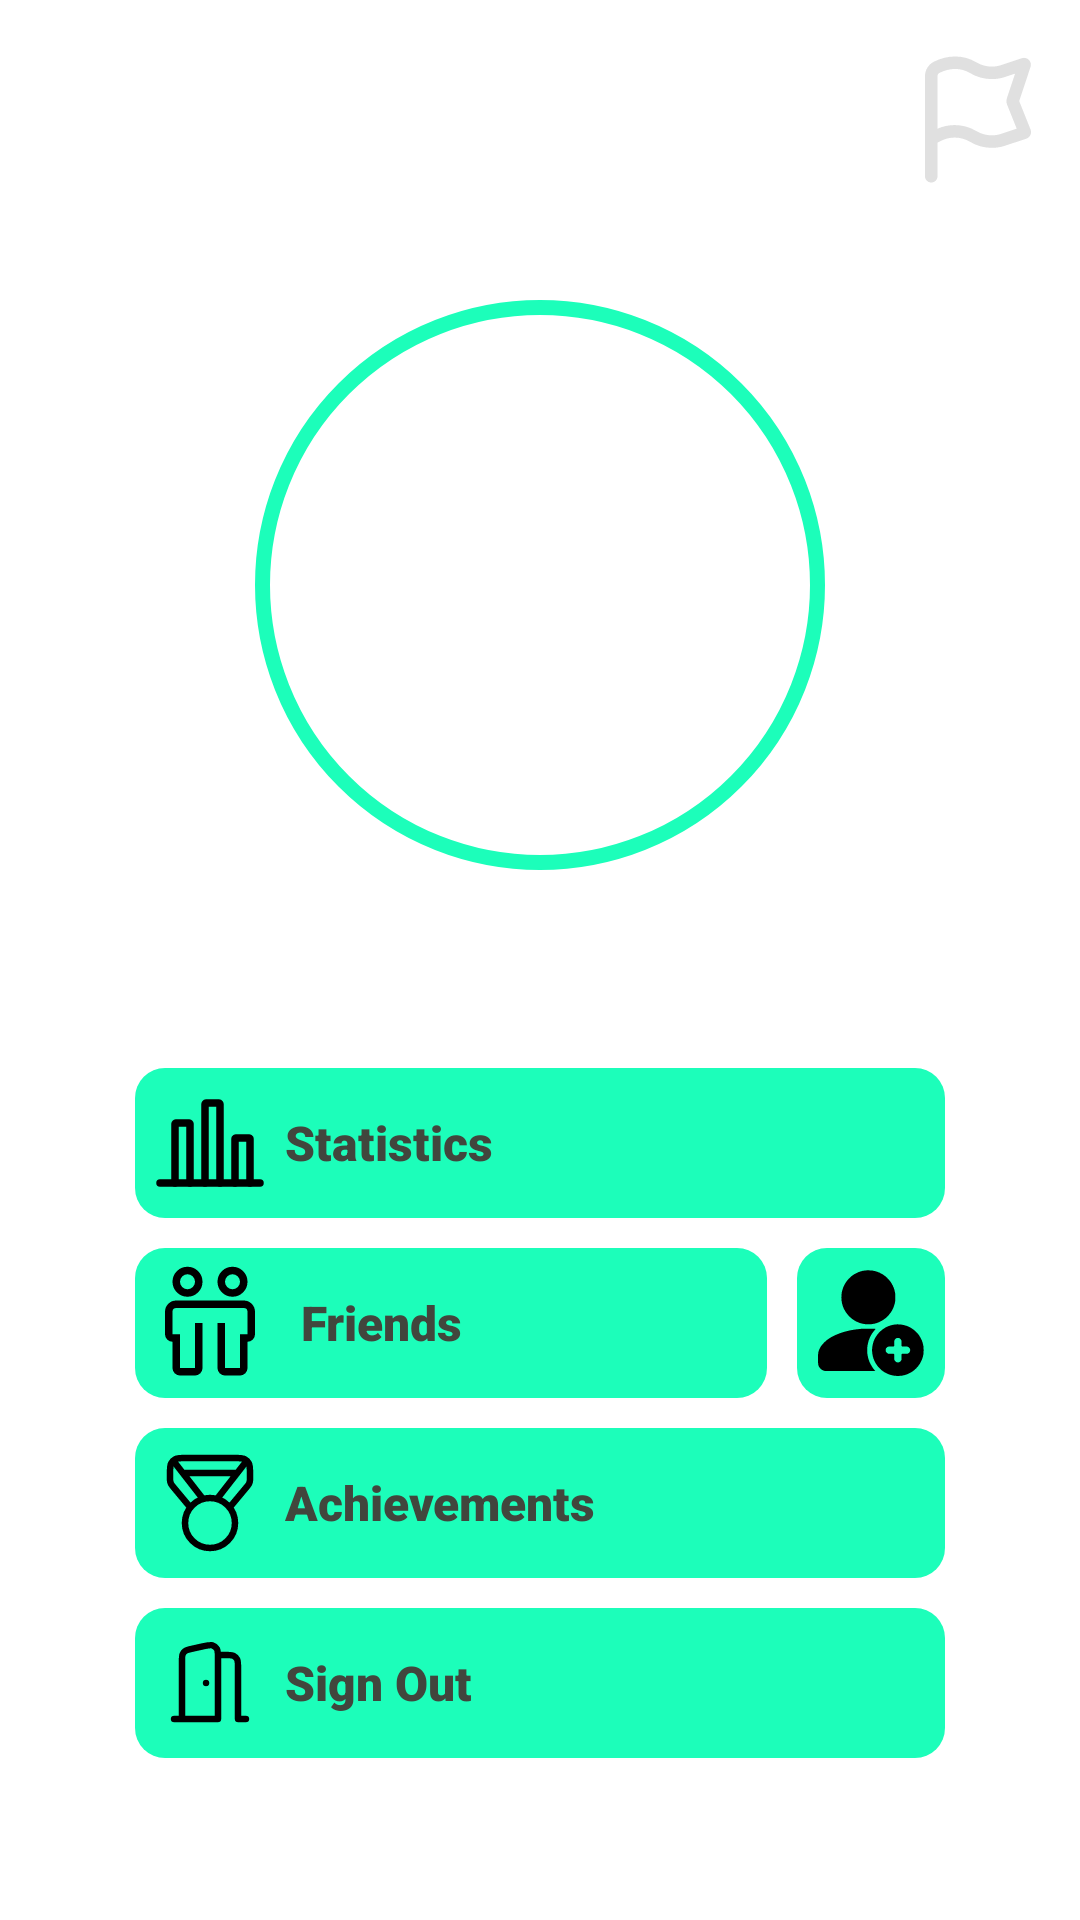

Icons on this 1080w x 1920h Android screen, each with the point to tap as (x=x, y=y):
exit account: (x=210, y=1682)
flag: (x=978, y=119)
friend add: (x=871, y=1323)
medal: (x=210, y=1503)
